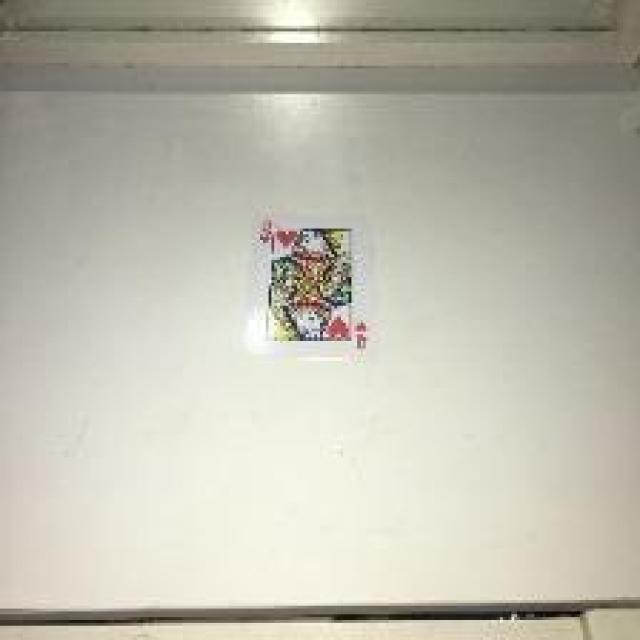Queen of hearts: (242, 210, 378, 364)
